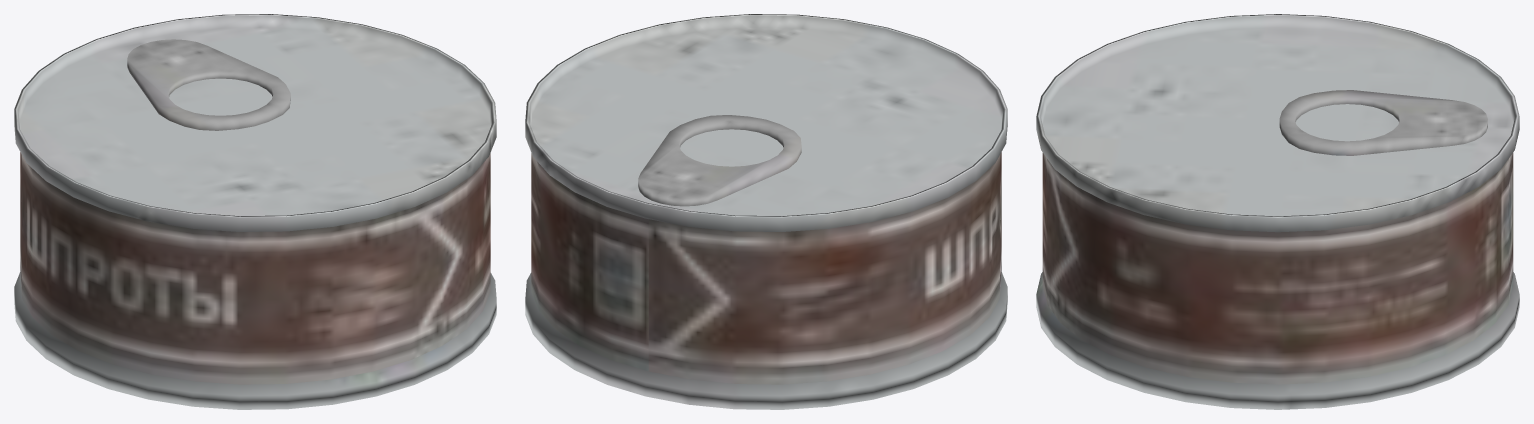
File: lata_peixe.glb
3 views of the same model, side by side, from view 1: azimuth 30°, elevation 25°; view 2: azimuth 150°, elevation 25°; view 3: azimuth 270°, elevation 25° (orthographic).
Visible parts, largest first — view 1: Malha; view 2: Malha; view 3: Malha.
Boxes of the visible parts, <box> form: Malha: <box>14,14,496,409</box>; Malha: <box>525,14,1007,409</box>; Malha: <box>1036,14,1519,409</box>.
Size of the model in its own units: 0.1 by 0.0438 by 0.1.
Materials: 1 (1 with a texture image).
